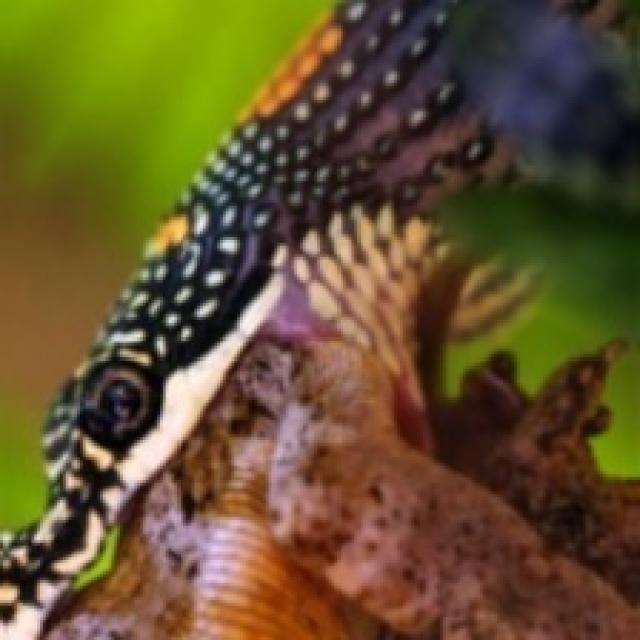paradise tree snake: (0, 0, 637, 637), (491, 14, 603, 114)
